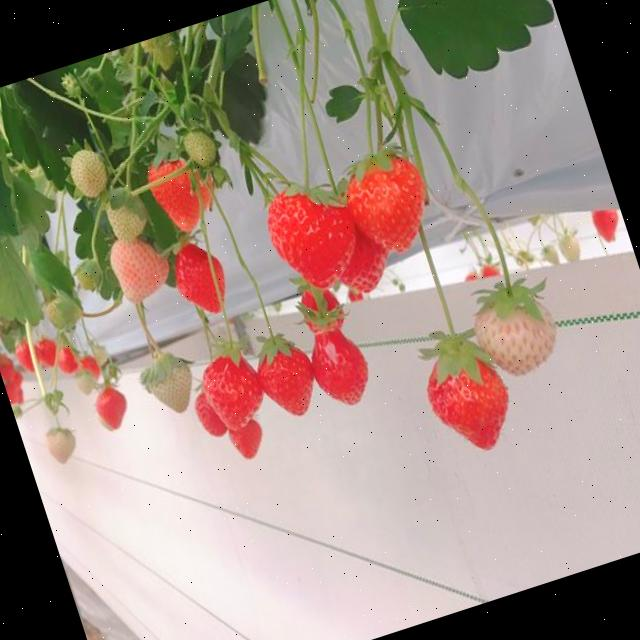Ripe Strawberry: (258, 172, 368, 298), (419, 342, 524, 462), (344, 156, 442, 263), (316, 214, 401, 300), (198, 348, 276, 436), (306, 323, 378, 412), (165, 235, 235, 324), (253, 341, 323, 423), (192, 386, 245, 440), (298, 286, 348, 337), (91, 381, 134, 431), (228, 414, 270, 460), (586, 202, 626, 247), (0, 343, 29, 405), (12, 340, 44, 376), (463, 262, 503, 290), (54, 345, 81, 376), (36, 338, 62, 368), (82, 355, 105, 382)
